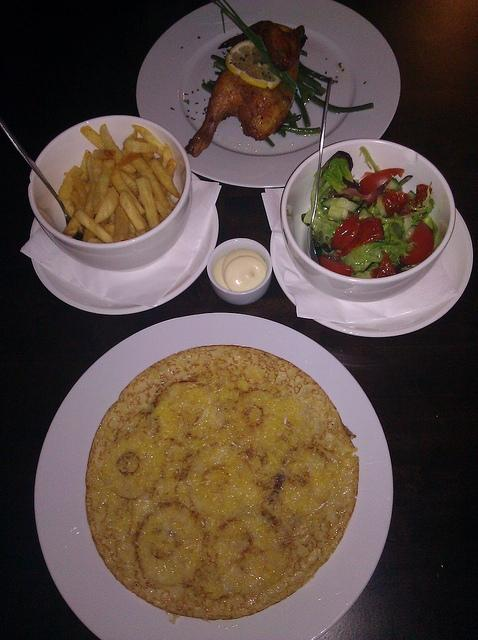lemon: (225, 40, 282, 90)
